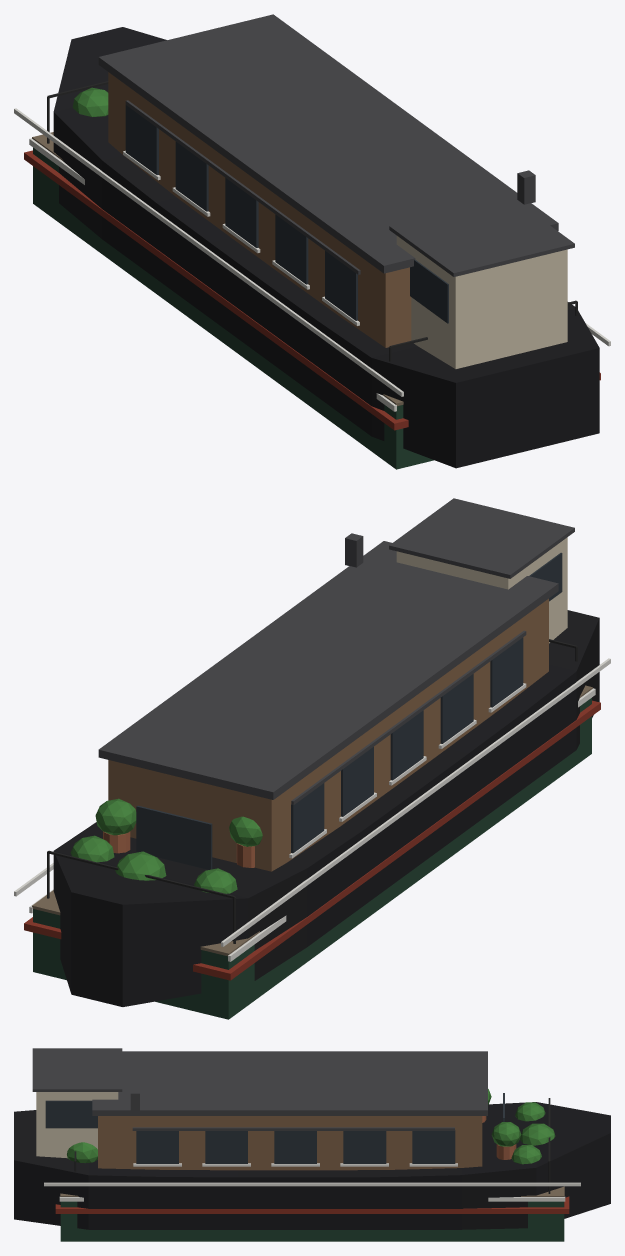
Rendered from boats.glb.
The picture shows the model from 3 angles, top to bottom: view 1: azimuth 30°, elevation 25°; view 2: azimuth 150°, elevation 25°; view 3: azimuth 270°, elevation 25°; orthographic projection. The views are drawn at different scales.
Parts seen in each view (by area): view 1: houseboat_c, houseboat_a; view 2: houseboat_a, houseboat_c; view 3: houseboat_a, houseboat_c.
Part boxes in pixels (x1,y1,x2,y2): houseboat_c: (14,27,610,468); houseboat_a: (29,14,577,469); houseboat_a: (29,533,595,1019); houseboat_c: (14,498,610,1006); houseboat_a: (59,1051,565,1241); houseboat_c: (14,1048,610,1229).
Size of the model in its own units: 4.49 by 4.33 by 16.
